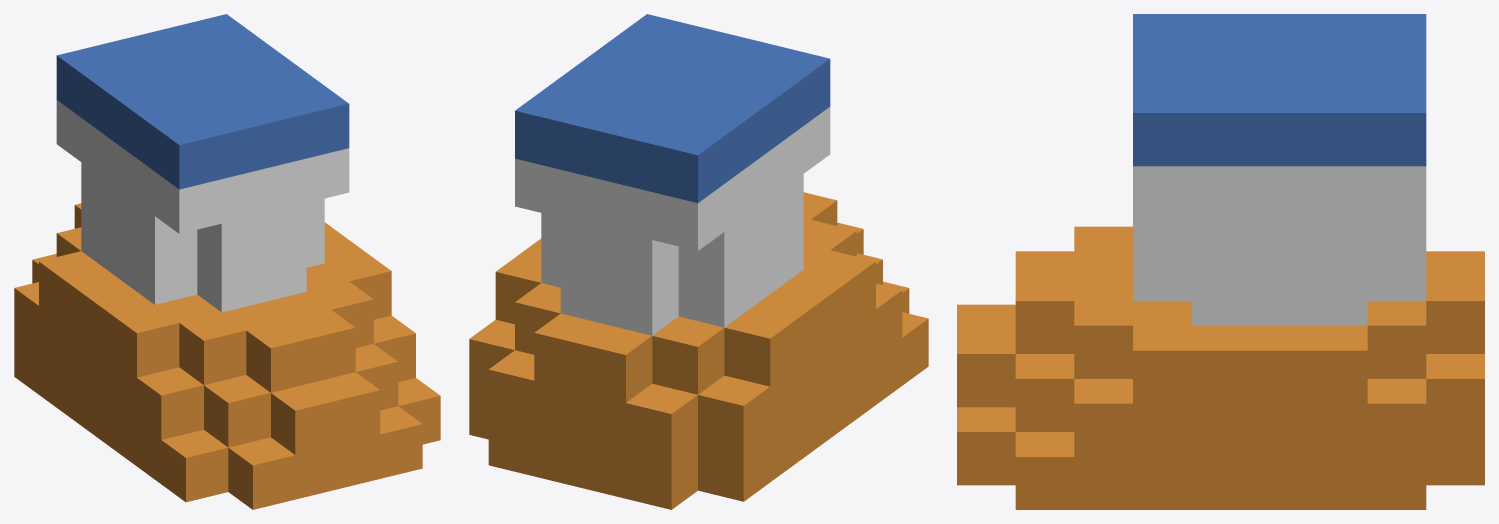
The model's file is MChemistLegLowerR.fbx.
3 views of the same model, side by side, from view 1: azimuth 30°, elevation 25°; view 2: azimuth 150°, elevation 25°; view 3: azimuth 270°, elevation 25° (orthographic). The views are drawn at different scales.
Visible parts, largest first — view 1: GenericBody_2_part_4; view 2: GenericBody_2_part_4; view 3: GenericBody_2_part_4.
Boxes of the visible parts, <box> form: GenericBody_2_part_4: <box>14,14,440,509</box>; GenericBody_2_part_4: <box>469,14,928,509</box>; GenericBody_2_part_4: <box>957,14,1484,509</box>.
Size of the model in its own units: 6 by 7 by 9.
1 material, 1 textured.
